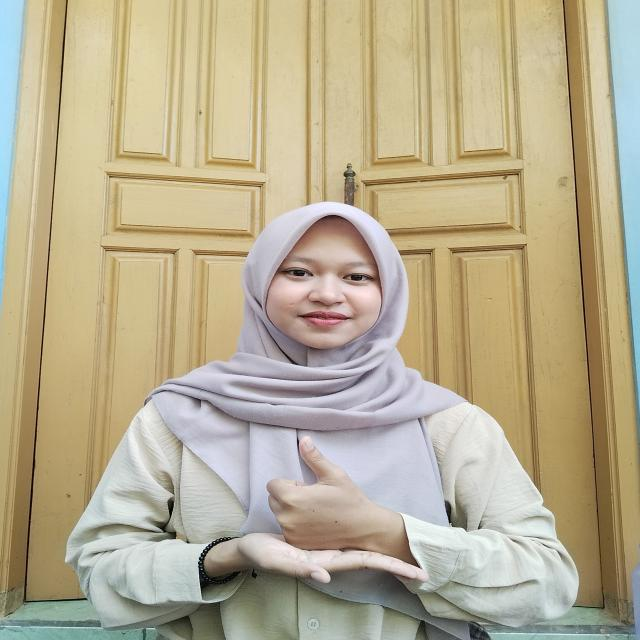cantik: (185, 432, 422, 601)
